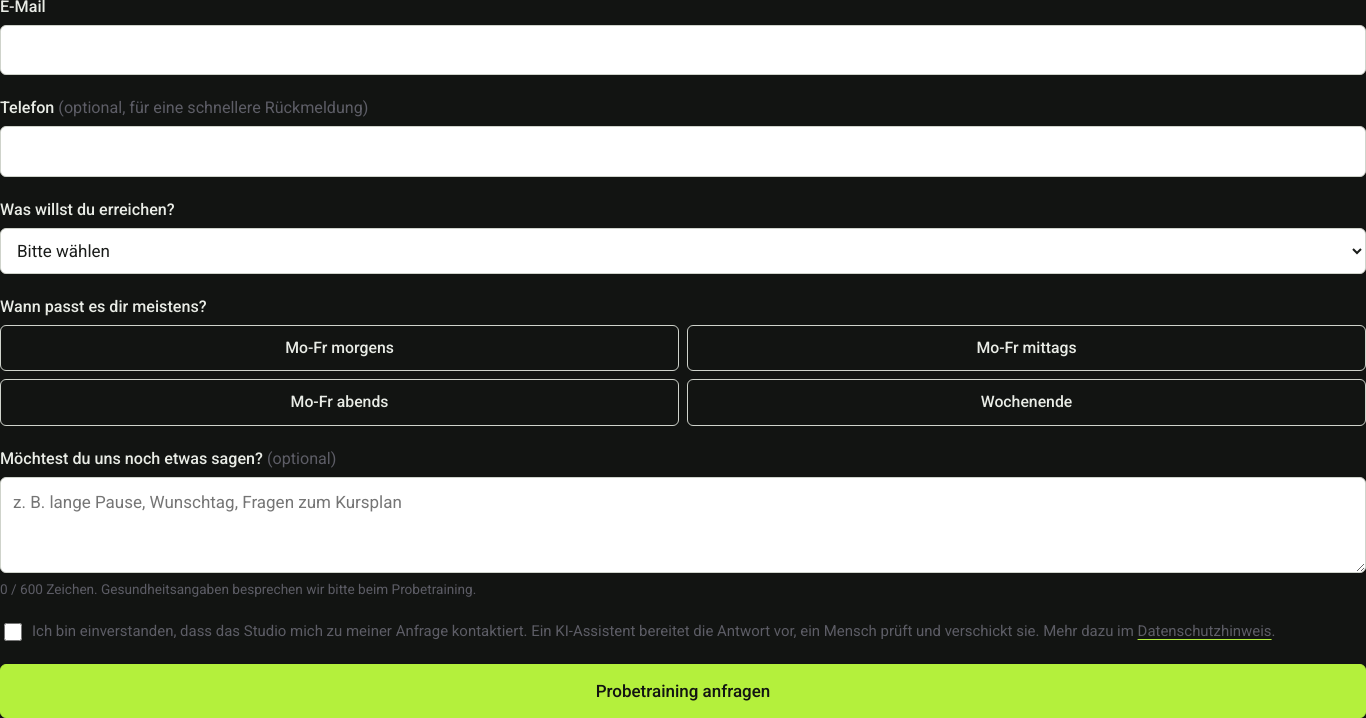
Test: AnfrageFormular › zeigt Fehler statt abzusenden, wenn Pflichtfelder fehlen
(page scrolled)
Click the button "Probetraining anfragen" at [683, 691], box [0,664,1365,717]
(page scrolled)
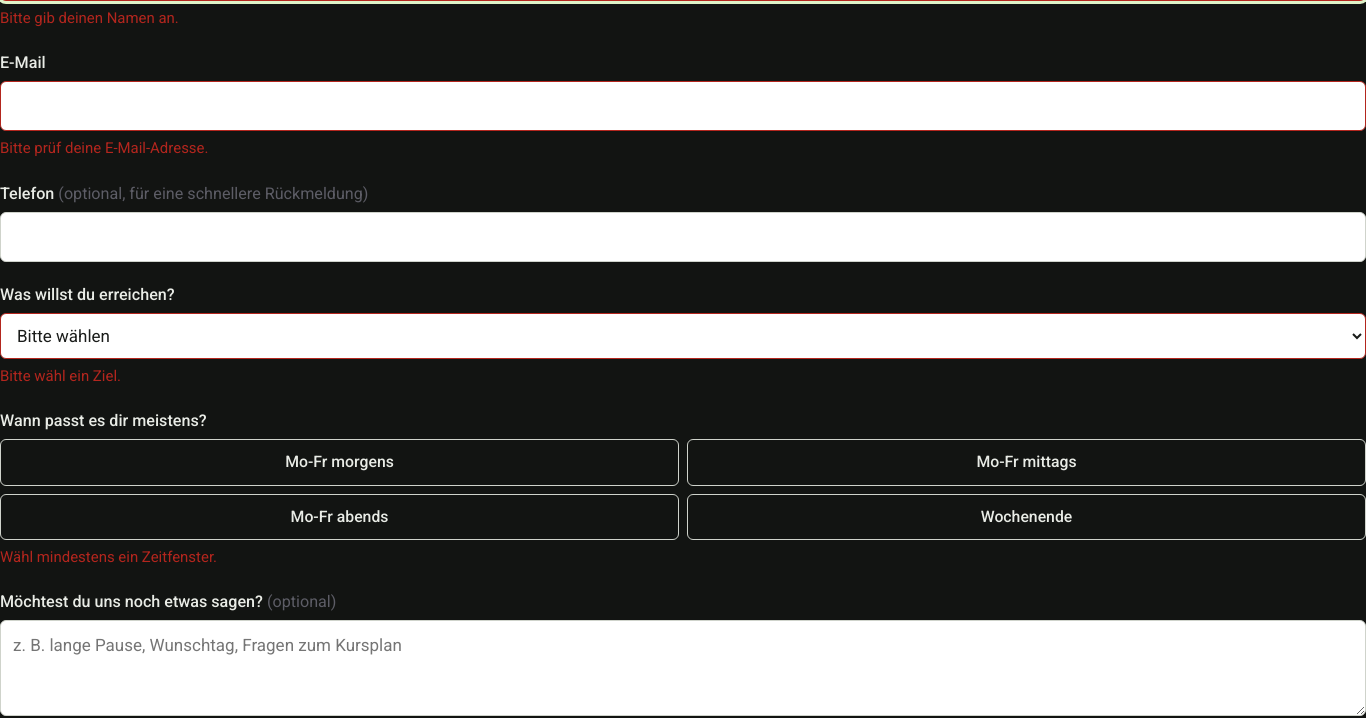
Now the text "Bitte gib deinen Namen an." is shown, box [0,9,179,27]
Now the text "Wähl mindestens ein Zeitfenster." is shown, box [0,548,217,566]
